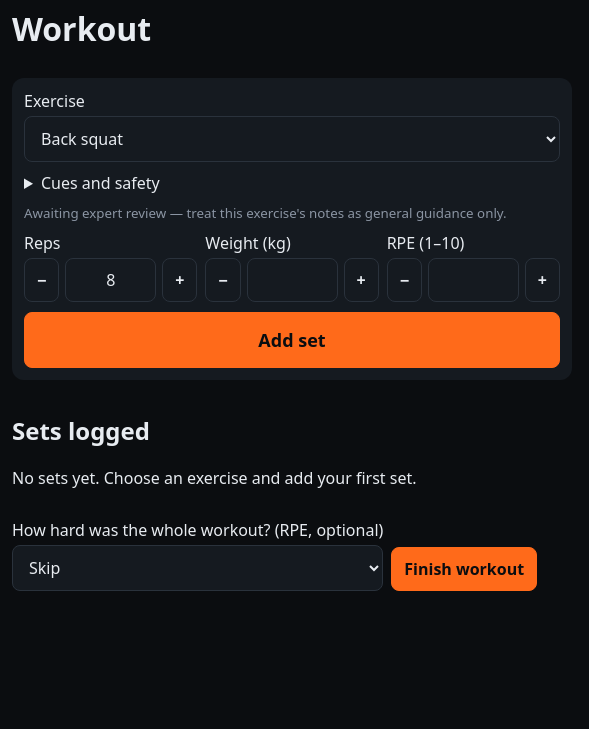
Test: WorkoutLogger › offline: the set stays on screen as 'waiting to send' with an explanation
Check: the element named "Log a set" is shown, box [12,78,572,380]
What coordinates should you click on to do the following:
click the button "Add set"
I would click on:
 (292, 340)
Its box is [24,312,560,368].
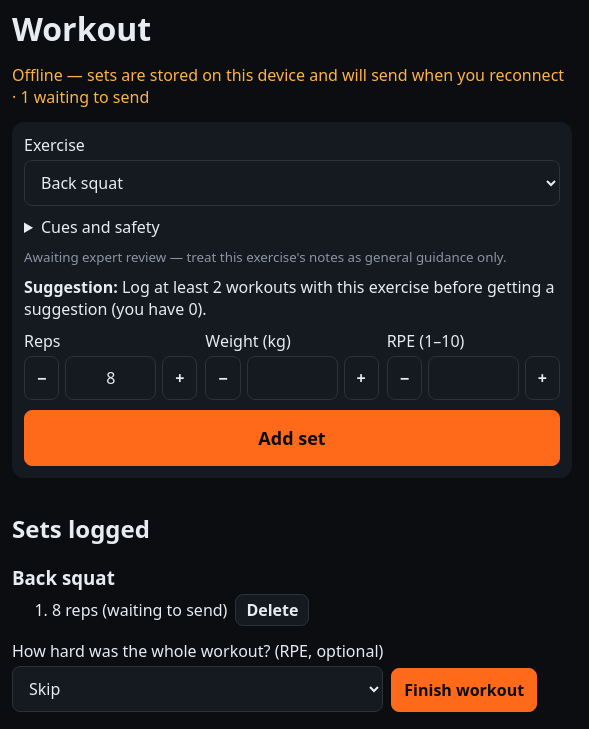
Check: the list item "8 reps (waiting to send) Delete" is shown, box [52,594,310,626]
